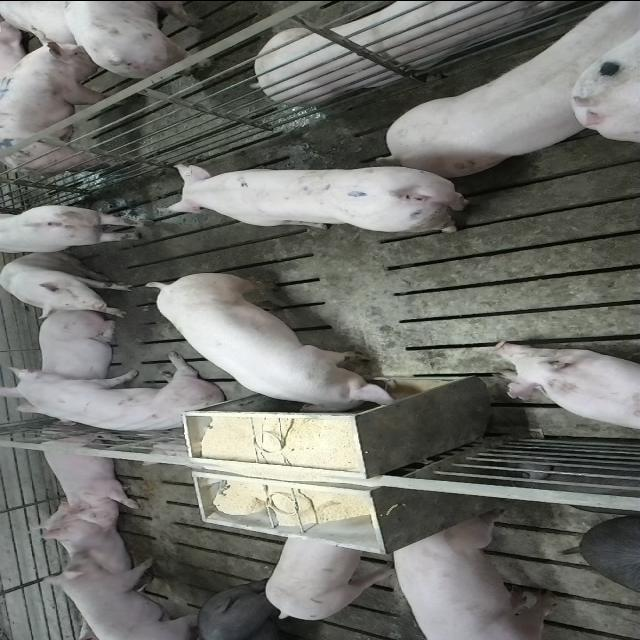Feeding: (146, 274, 398, 420)
Sitting: (4, 354, 227, 438), (0, 251, 136, 317)
Standing: (164, 161, 478, 233), (387, 514, 567, 638), (0, 46, 133, 176), (38, 552, 205, 638), (63, 0, 215, 80), (264, 535, 398, 622), (1, 202, 156, 256), (192, 583, 310, 640)
Sternal_lying: (250, 0, 574, 102), (492, 341, 640, 434), (35, 311, 123, 383)
